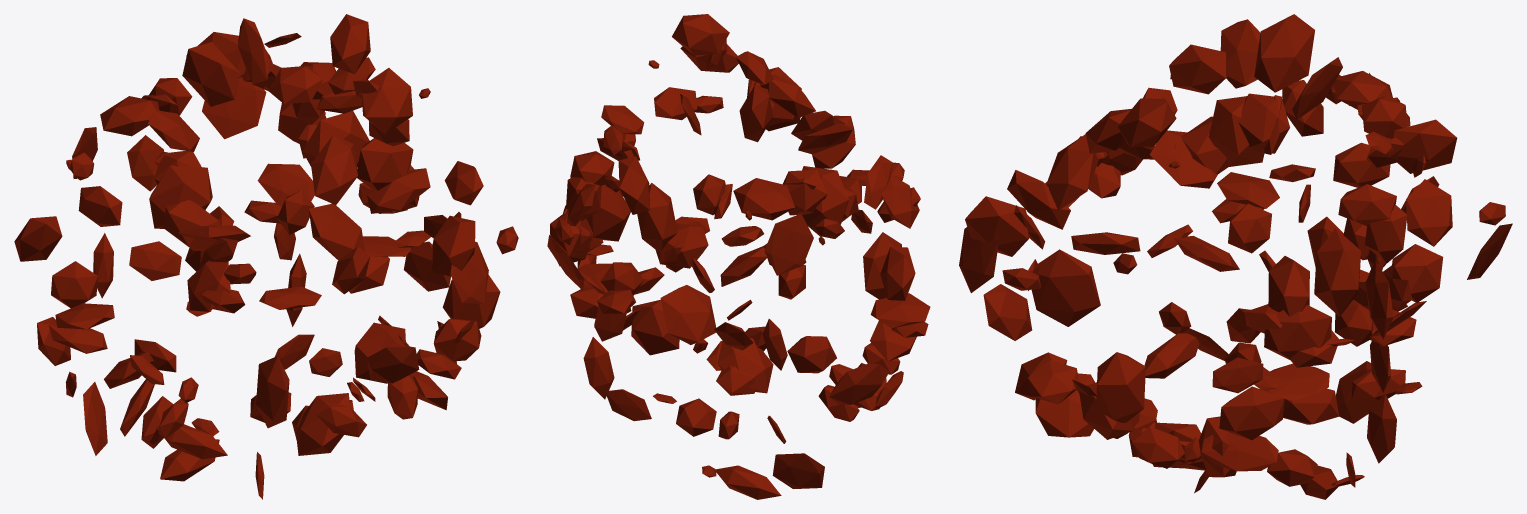
File: asteroid2_iron.obj
The picture shows the model from 3 angles, left to right: view 1: azimuth 30°, elevation 25°; view 2: azimuth 150°, elevation 25°; view 3: azimuth 270°, elevation 25°; orthographic projection. The views are drawn at different scales.
Parts seen in each view (by area): view 1: Icosphere; view 2: Icosphere; view 3: Icosphere.
Part boxes in pixels (left/top/right/bottom): Icosphere: left=14, top=14, right=518, bottom=499; Icosphere: left=547, top=14, right=930, bottom=499; Icosphere: left=959, top=14, right=1512, bottom=499.
Bounding box in the file's own units: 5.58 × 6.17 × 6.09.
